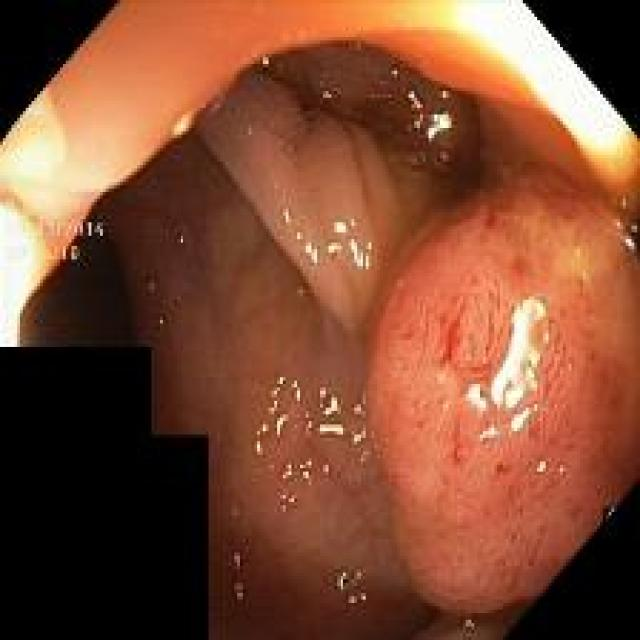Polyps: (369, 174, 640, 614)
